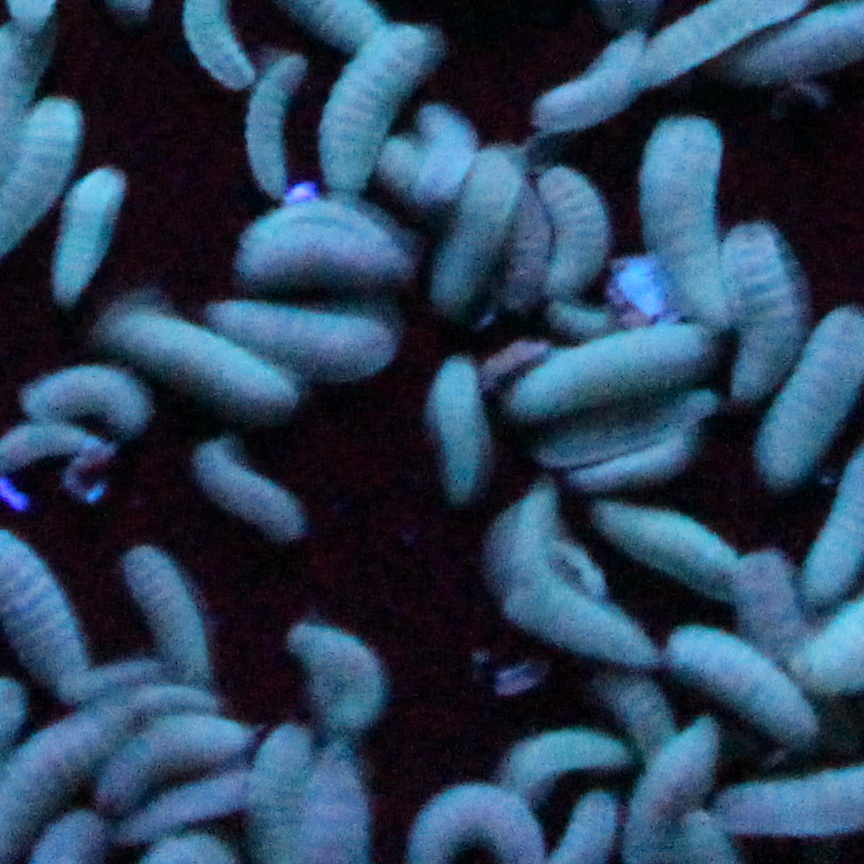larve: (492, 486, 660, 672), (88, 303, 302, 415), (316, 22, 436, 199), (642, 118, 737, 325), (514, 324, 716, 420), (200, 299, 405, 389), (237, 202, 416, 296), (662, 633, 822, 738), (432, 142, 530, 310), (582, 508, 754, 594), (89, 716, 257, 804), (118, 544, 217, 691), (184, 440, 322, 545), (490, 720, 656, 806), (724, 228, 804, 400), (282, 611, 386, 738), (537, 28, 652, 135), (430, 352, 500, 508), (412, 778, 542, 860), (53, 166, 129, 306), (294, 736, 373, 861), (536, 158, 608, 290), (20, 363, 153, 433), (247, 726, 317, 859), (245, 51, 305, 203), (380, 96, 480, 186), (512, 174, 558, 316), (566, 788, 622, 860), (62, 660, 175, 691)
